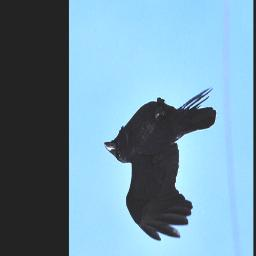Crow: (104, 84, 217, 241)
